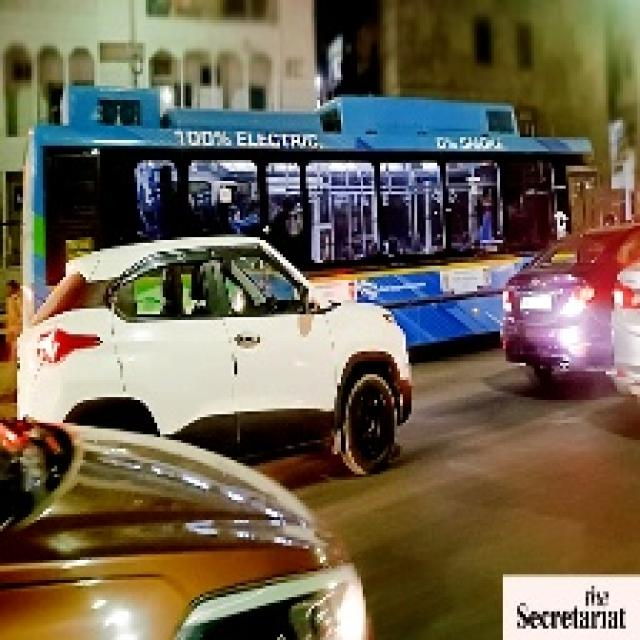car: (15, 236, 420, 479), (498, 209, 635, 384)
